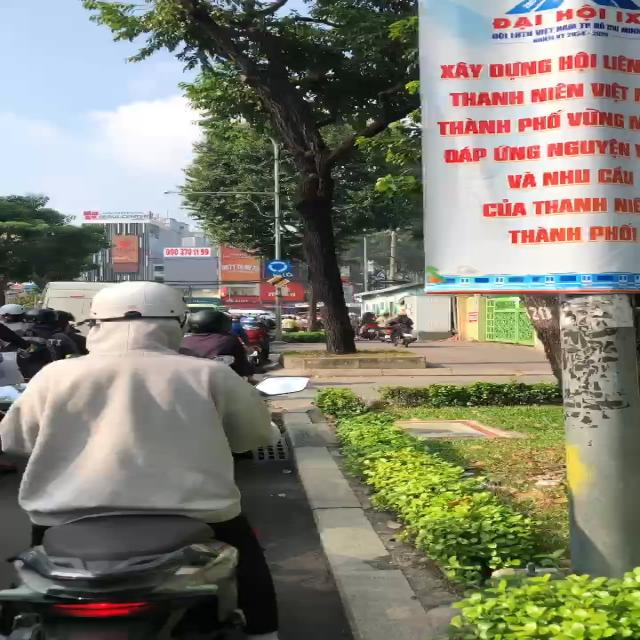Bien bao noi giao nhau chay theo vong xuyen: (264, 257, 294, 275)
